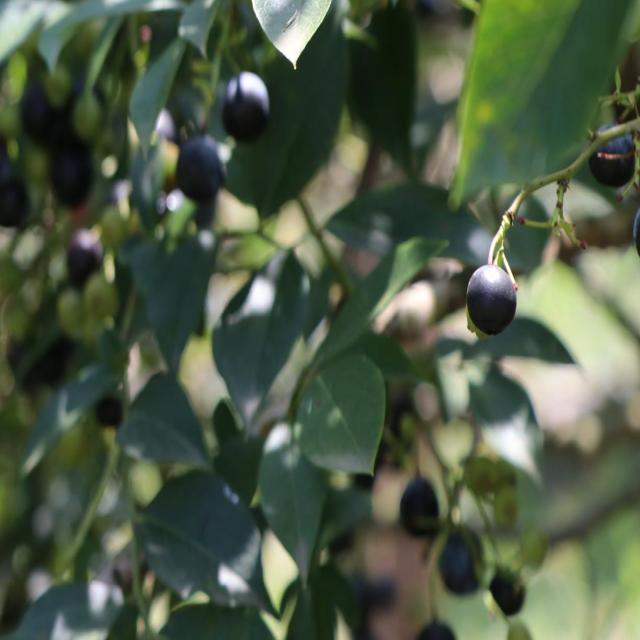blueberry: (222, 68, 272, 142), (469, 264, 516, 338), (172, 133, 224, 196), (440, 525, 486, 593), (398, 475, 444, 538)
